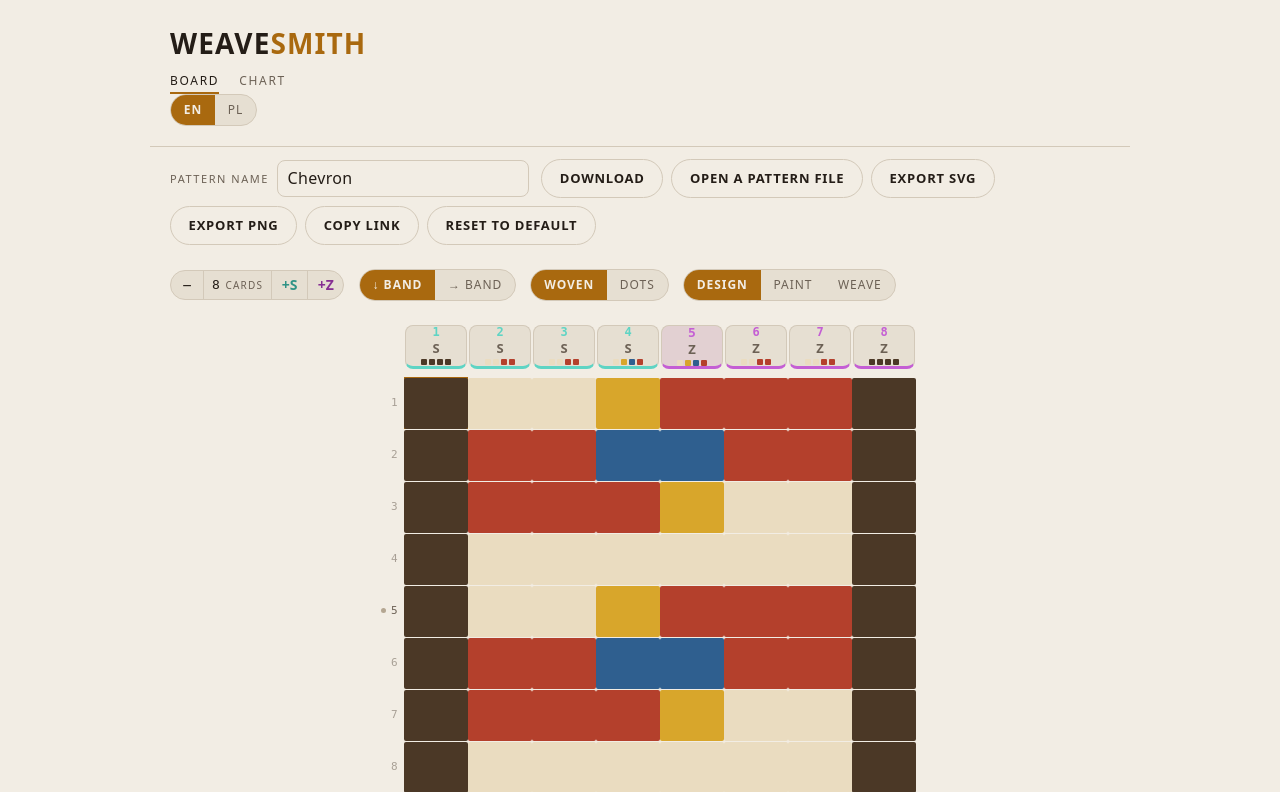
language toggle › translates the reset confirmation sentence
Click the button with aria-label "Polski" at (236, 110), box left=215, top=95, right=256, bottom=125
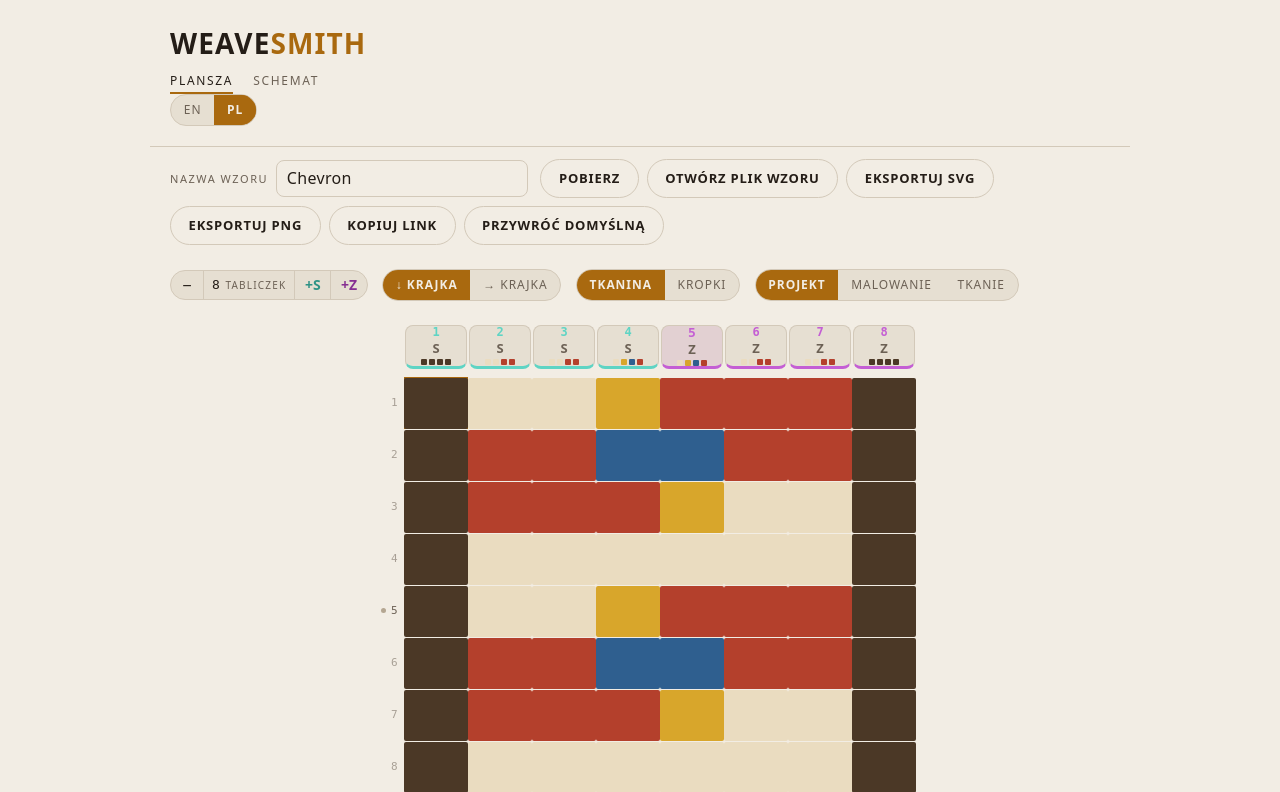
Click the button "Przywróć domyślną" at (564, 225), box left=464, top=206, right=664, bottom=245
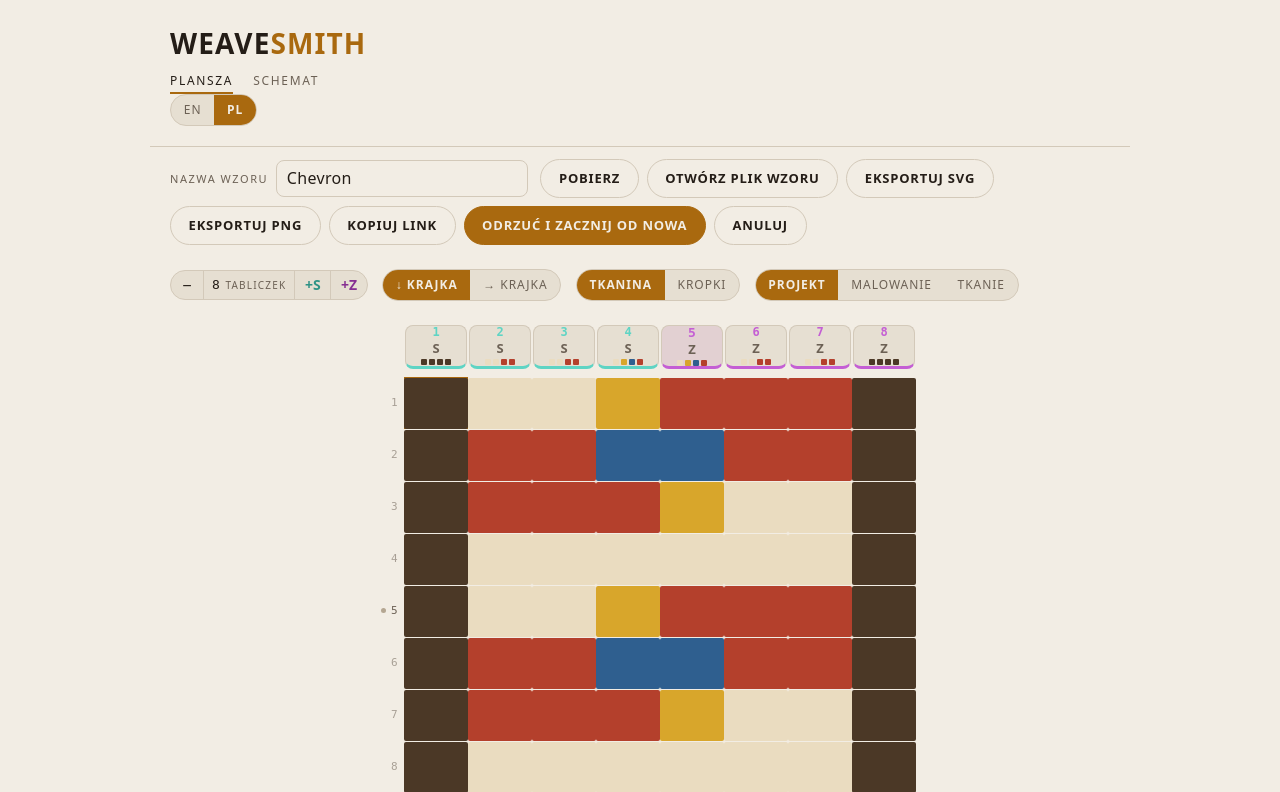
Click the button "Odrzuć i zacznij od nowa" at (585, 225), box left=464, top=206, right=706, bottom=245
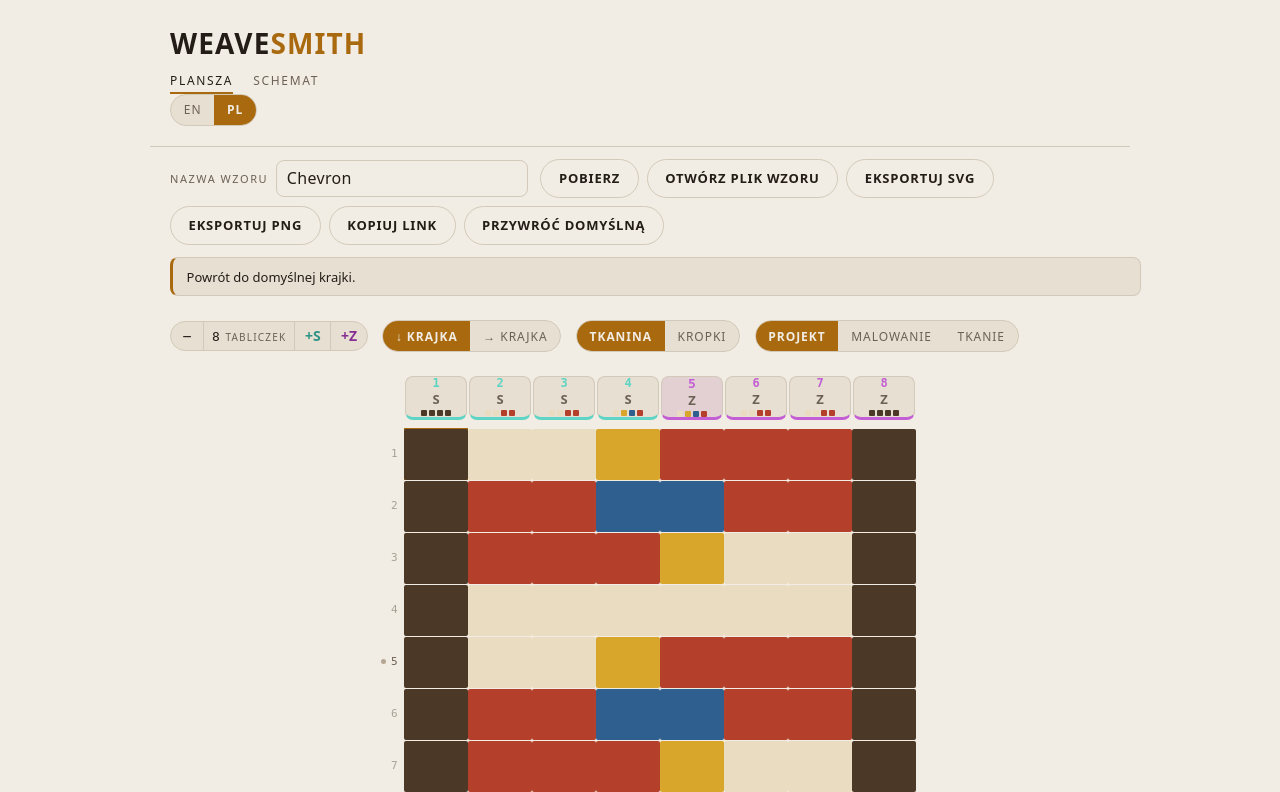
Check: the message reads "Powrót do domyślnej krajki.", box left=187, top=268, right=355, bottom=286
